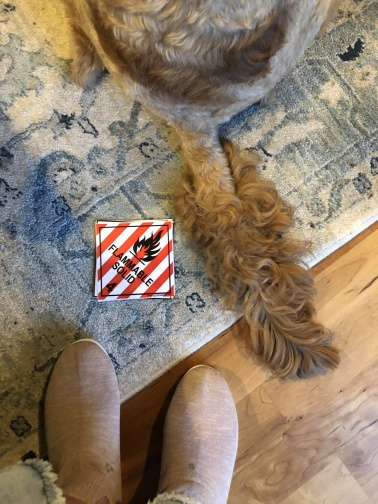FlammableSolid: (95, 219, 177, 298)
